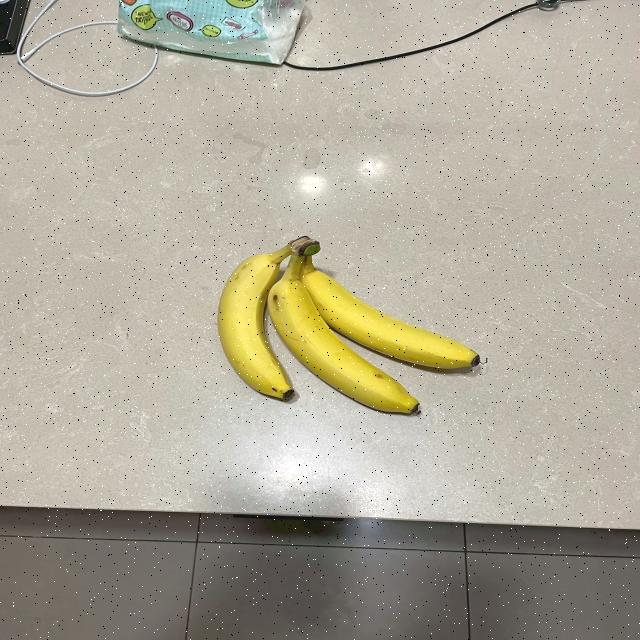banana: (157, 169, 524, 455), (266, 238, 430, 432), (306, 234, 500, 379), (202, 227, 302, 413)
